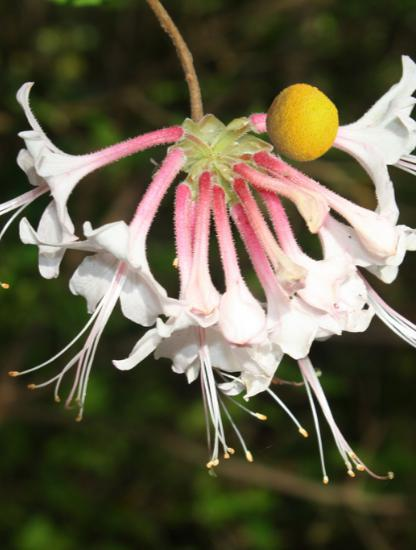Cantaloupe: (262, 85, 341, 164)
